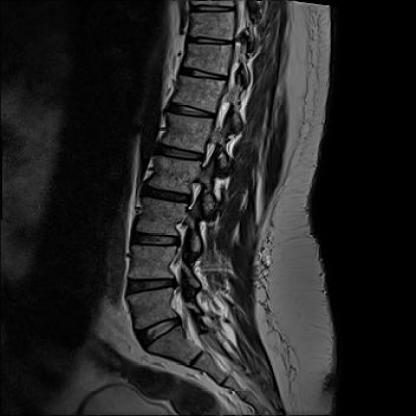Annular Disc Relaxationrotation: (130, 229, 181, 251), (153, 143, 203, 164)
Degenerative Disc Diseaserotation: (124, 274, 178, 297), (135, 187, 197, 203)
Disc Bulgerotation: (125, 274, 179, 297), (136, 319, 187, 341), (135, 187, 196, 203)
